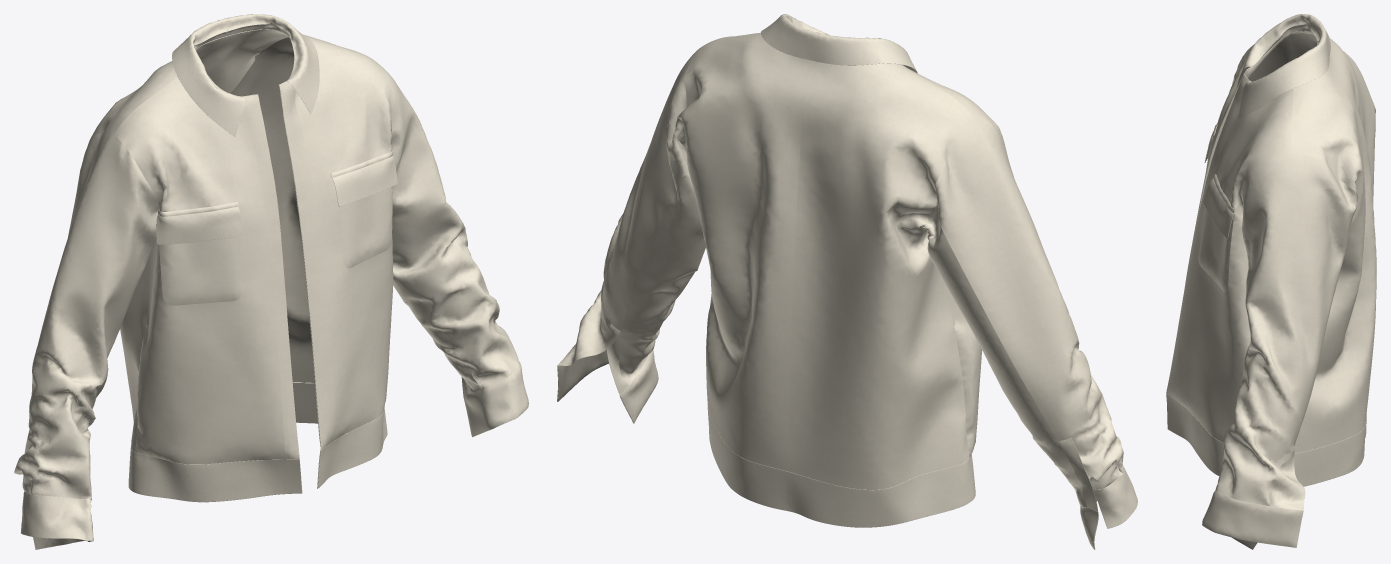
Rendered from men_jacket.glb.
3 renders of one model, left to right at view 1: azimuth 30°, elevation 25°; view 2: azimuth 150°, elevation 25°; view 3: azimuth 270°, elevation 25°, orthographic. The views are drawn at different scales.
Parts seen in each view (by area): view 1: Cloth_1; view 2: Cloth_1; view 3: Cloth_1.
Part boxes in pixels (x1,y1,x2,y2): Cloth_1: (14,14,528,549); Cloth_1: (557,14,1137,549); Cloth_1: (1166,14,1376,549).
Bounding box in the file's own units: 0.781 × 0.6691 × 0.2974.
5 materials, 5 textured.
